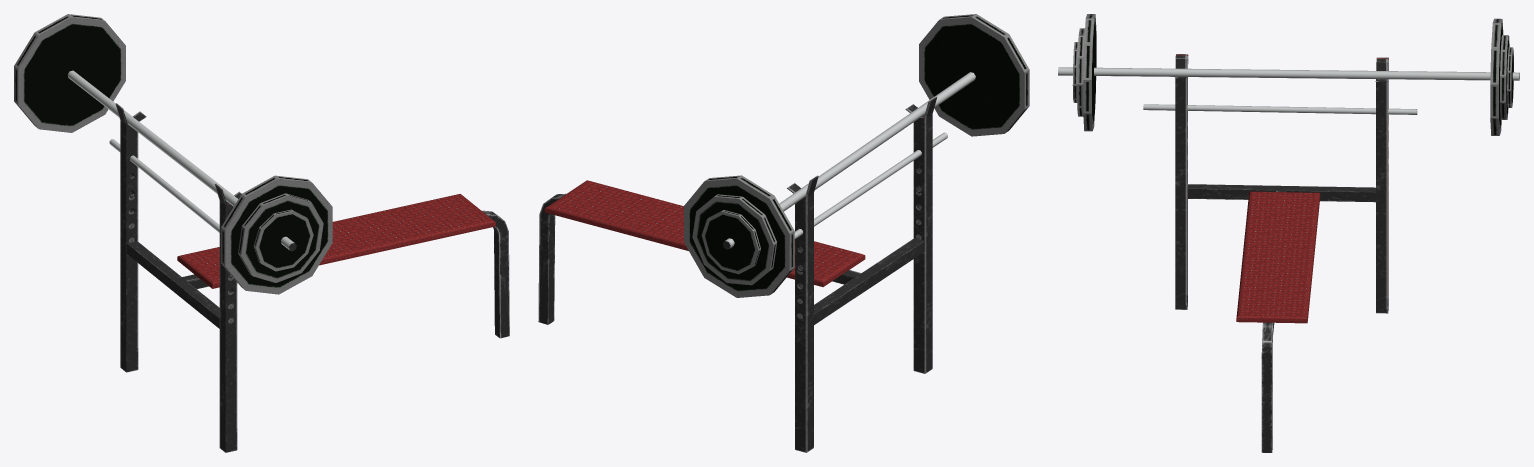
3 renders of one model, left to right at view 1: azimuth 30°, elevation 25°; view 2: azimuth 150°, elevation 25°; view 3: azimuth 270°, elevation 25°, orthographic. The views are drawn at different scales.
Parts seen in each view (by area): view 1: e2; view 2: e2; view 3: e2.
Part boxes in pixels (box(x1,y1,x2,y2)): e2: box(14, 14, 509, 452); e2: box(538, 14, 1029, 452); e2: box(1058, 14, 1519, 452).
Size of the model in its own units: 628 by 489 by 710.
